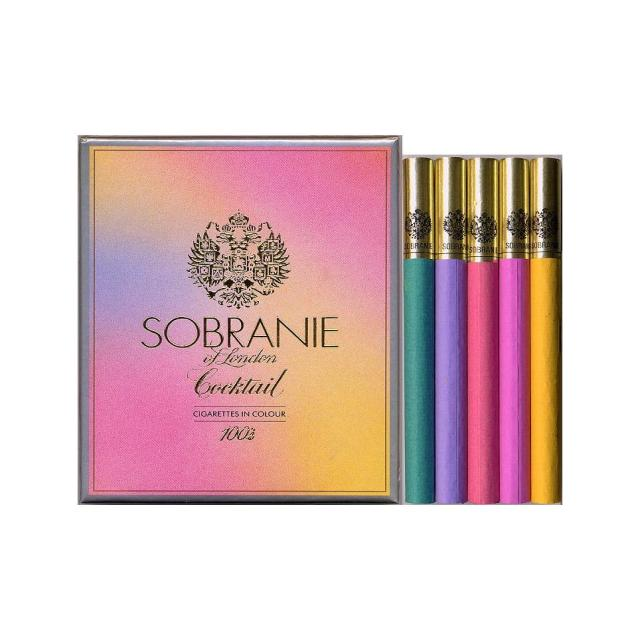cigarette: (467, 157, 501, 507), (497, 156, 530, 505), (530, 156, 562, 506), (435, 157, 467, 505), (404, 158, 436, 505)
